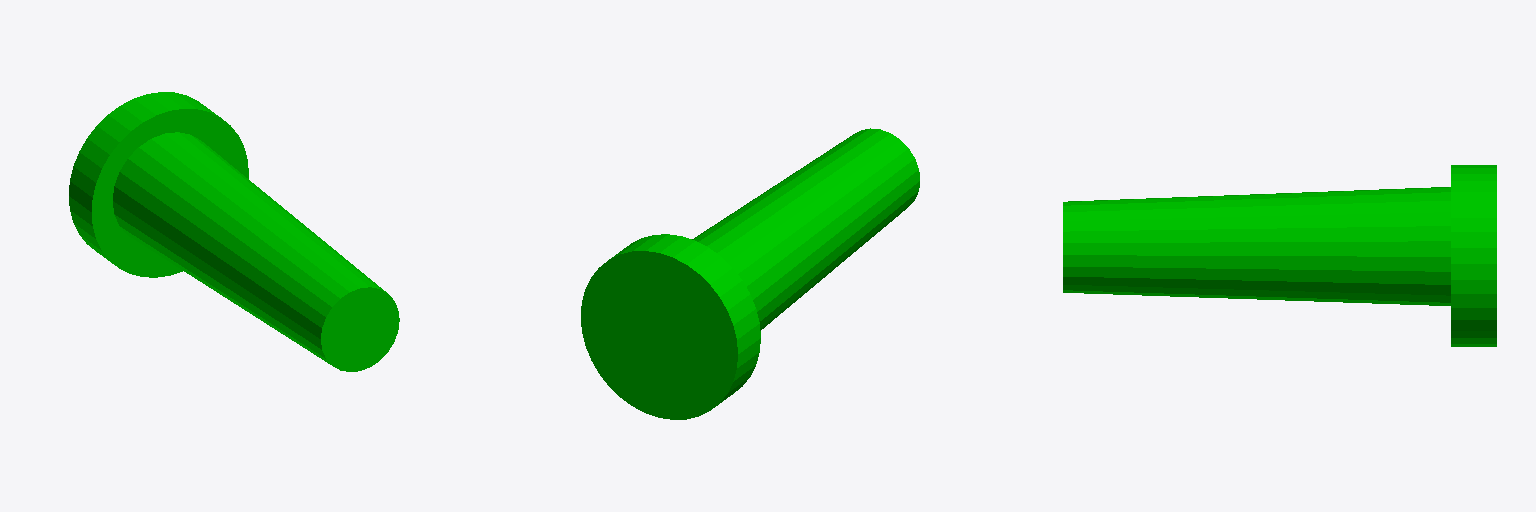
The model's file is launcher2.obj.
3 views of the same model, side by side, from view 1: azimuth 30°, elevation 25°; view 2: azimuth 150°, elevation 25°; view 3: azimuth 270°, elevation 25° (orthographic).
Visible parts, largest first — view 1: Cone01, Cylinder01; view 2: Cylinder01, Cone01; view 3: Cone01, Cylinder01.
Part boxes in pixels (x1,y1,x2,y2): Cone01: (113, 132, 399, 371); Cylinder01: (69, 92, 248, 277); Cylinder01: (581, 234, 760, 419); Cone01: (692, 128, 919, 330); Cone01: (1063, 187, 1450, 305); Cylinder01: (1451, 165, 1496, 346).
Size of the model in its own units: 78.32 by 78.32 by 187.